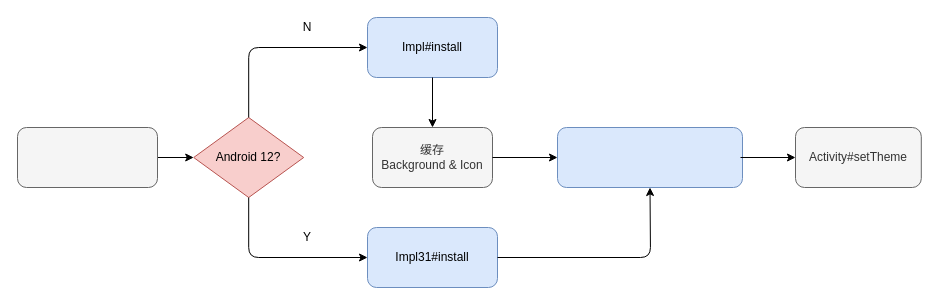
This 939x305 diagram has some shape labels left out. The box of each missing label's shape, as (x1, y1, x2, y2) in pixels:
installSplashScreen: (16, 126, 158, 188)
更新实际主题 PostSplashScreenTheme: (556, 126, 742, 188)
